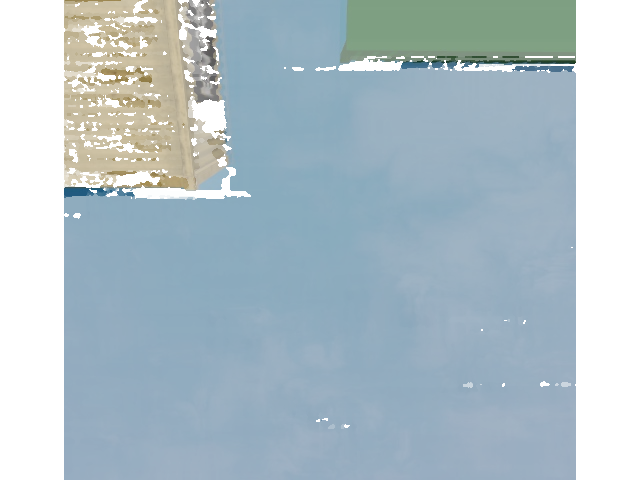container2: (335, 0, 640, 71)
container3: (0, 0, 242, 198)
